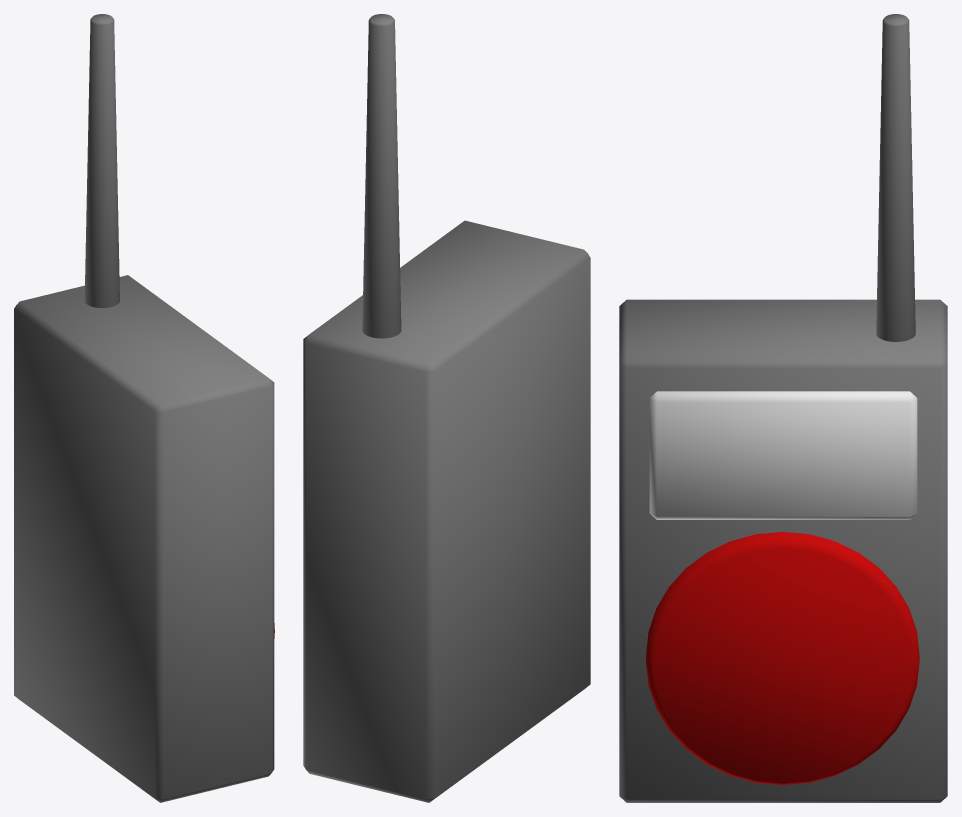
The model's file is Button.fbx.
3 renders of one model, left to right at view 1: azimuth 30°, elevation 25°; view 2: azimuth 150°, elevation 25°; view 3: azimuth 270°, elevation 25°, orthographic. The views are drawn at different scales.
Visible parts, largest first — view 1: Cube, Cylinder; view 2: Cube, Cylinder; view 3: Cube, Cylinder.
Part boxes in pixels (<box>): Cube: <box>14,275,274,802</box>; Cylinder: <box>84,14,119,307</box>; Cube: <box>303,220,590,802</box>; Cylinder: <box>362,14,401,338</box>; Cube: <box>619,299,947,802</box>; Cylinder: <box>876,14,915,341</box>.
Size of the model in its own units: 116 by 571 by 224.
